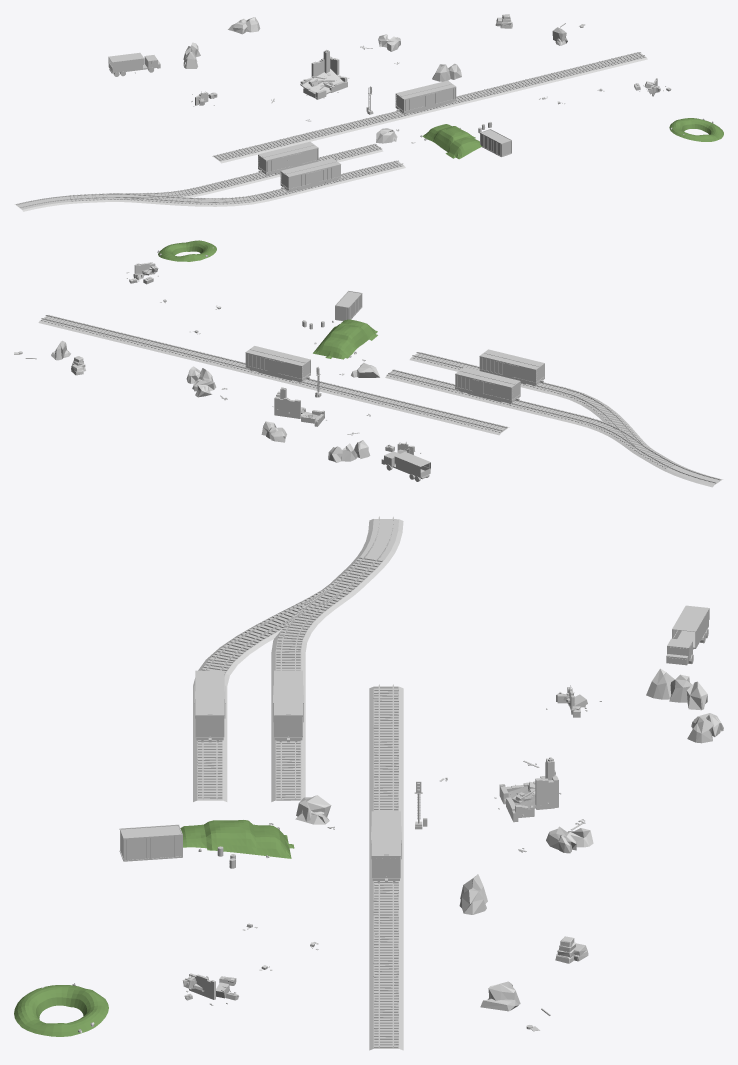
Rendered from outdoor_32.glb.
3 renders of one model, top to bottom at view 1: azimuth 30°, elevation 25°; view 2: azimuth 150°, elevation 25°; view 3: azimuth 270°, elevation 25°, orthographic. The views are drawn at different scales.
Parts seen in each view (by area): view 1: gas_station_town; view 2: gas_station_town; view 3: gas_station_town.
Part boxes in pixels (x1=…): gas_station_town: x1=15, y1=14, x2=723, y2=211; gas_station_town: x1=14, y1=240, x2=722, y2=487; gas_station_town: x1=14, y1=516, x2=723, y2=1050.
Bounding box in the file's own units: 128 × 9.15 × 72.48.
Materials: 2 (1 with a texture image).
